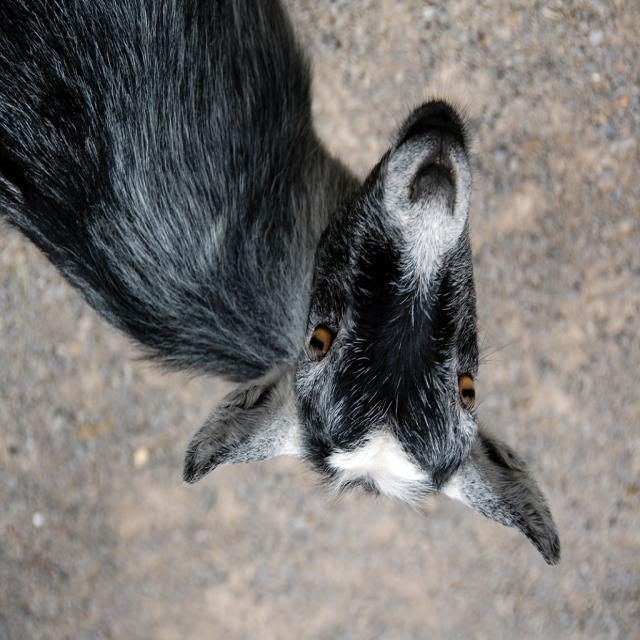Goat: (0, 2, 561, 568)
